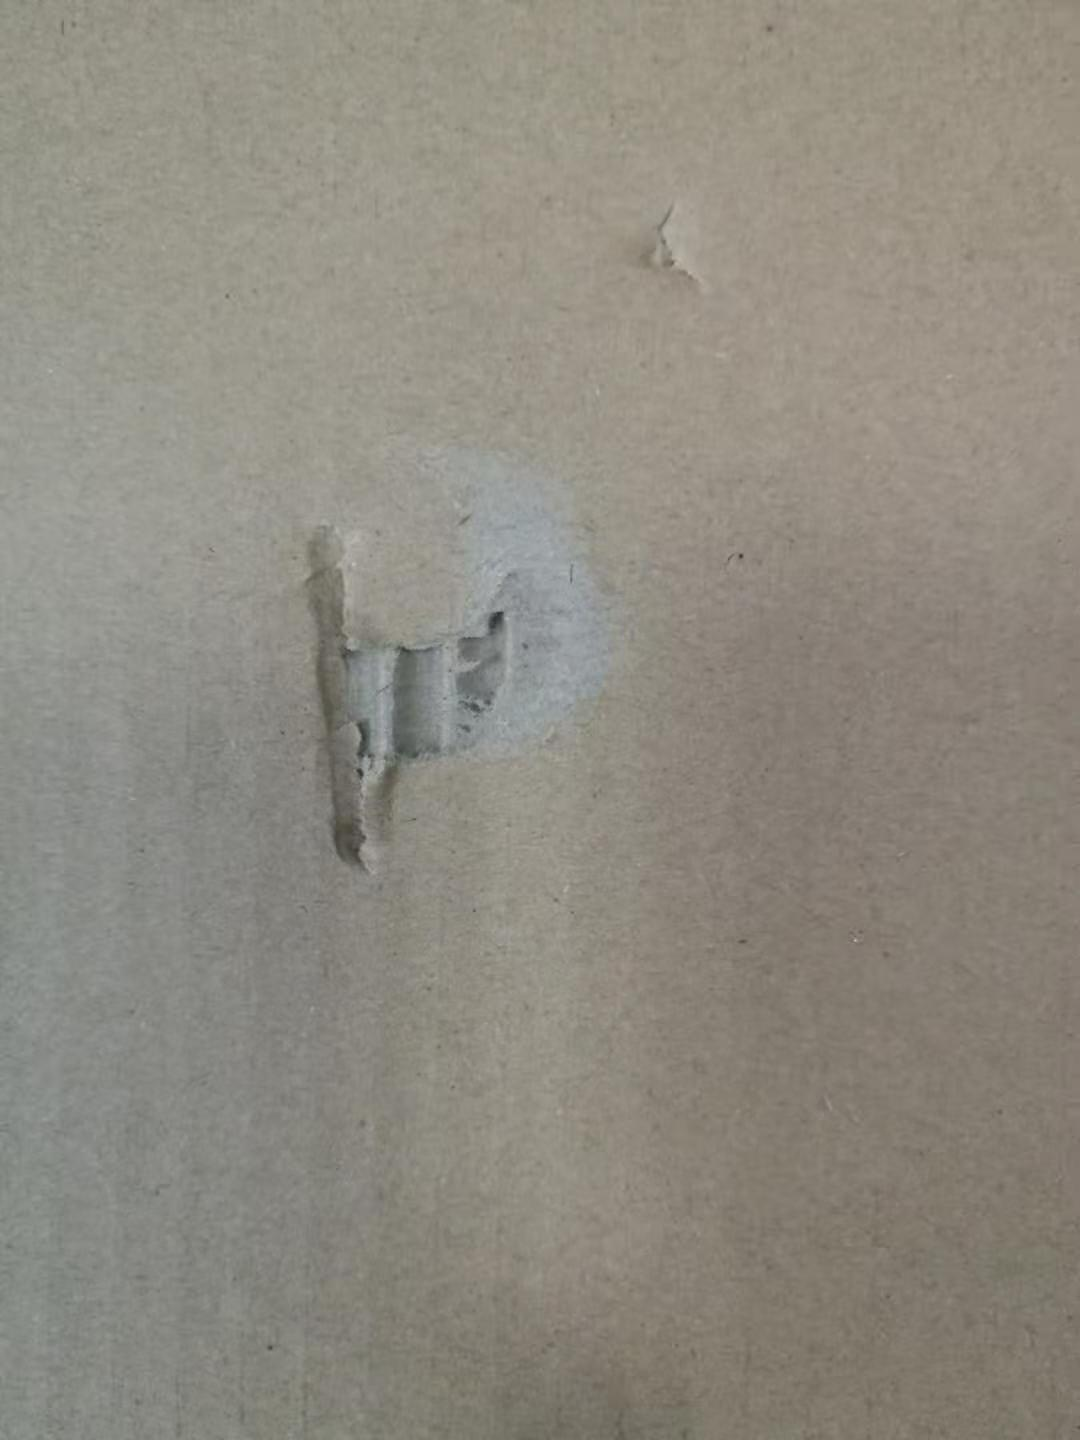defect: (254, 421, 669, 905), (605, 181, 734, 315)
